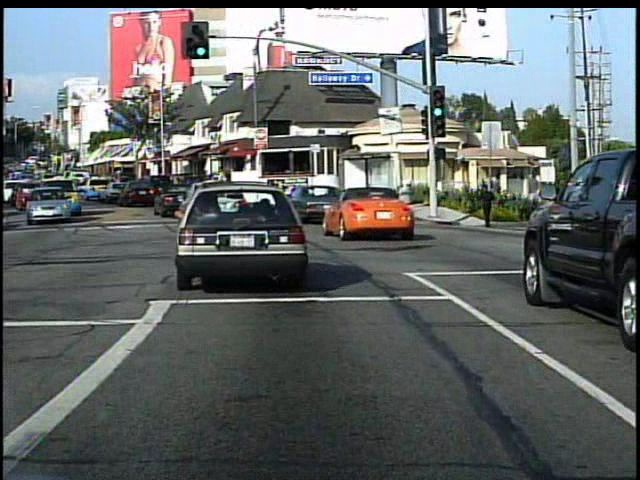person: (565, 185, 588, 246), (476, 182, 498, 229)
